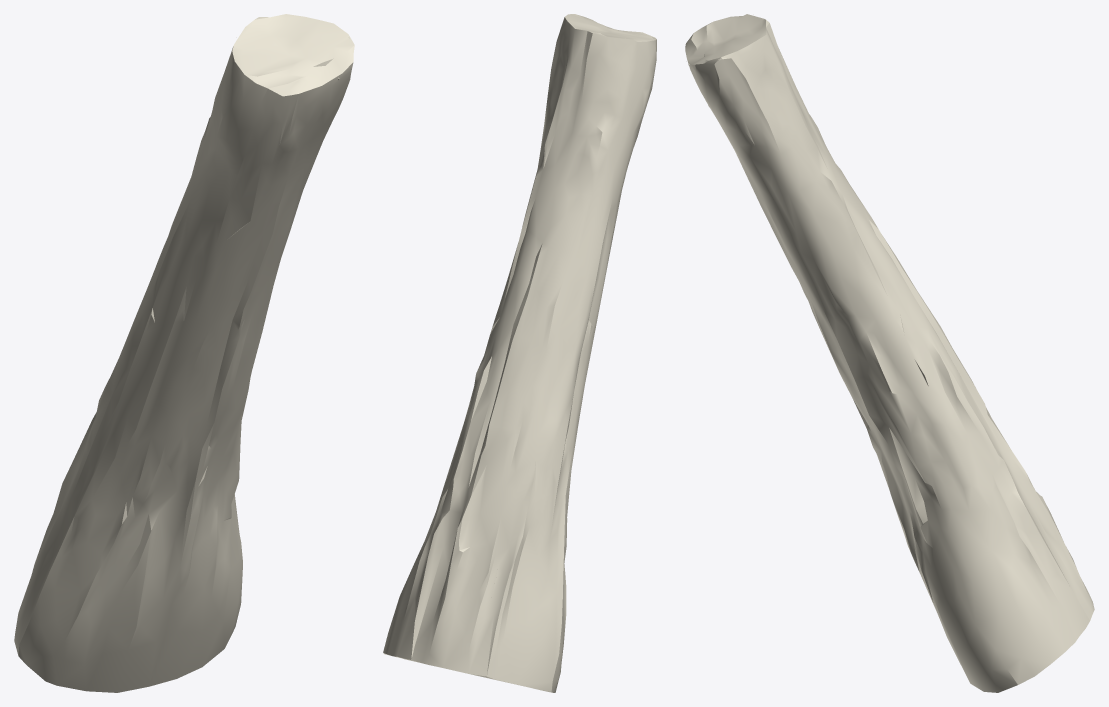
File: fma71441_mm1520.glb
The picture shows the model from 3 angles, left to right: view 1: azimuth 30°, elevation 25°; view 2: azimuth 150°, elevation 25°; view 3: azimuth 270°, elevation 25°; orthographic projection. The views are drawn at different scales.
Visible parts, largest first — view 1: FMA71441_MM1520; view 2: FMA71441_MM1520; view 3: FMA71441_MM1520.
Boxes of the visible parts, bbox=[...] form: FMA71441_MM1520: bbox=[14, 14, 354, 692]; FMA71441_MM1520: bbox=[383, 14, 656, 692]; FMA71441_MM1520: bbox=[685, 14, 1094, 692].
Bounding box in the file's own units: 0.00499 × 0.017 × 0.00988.
